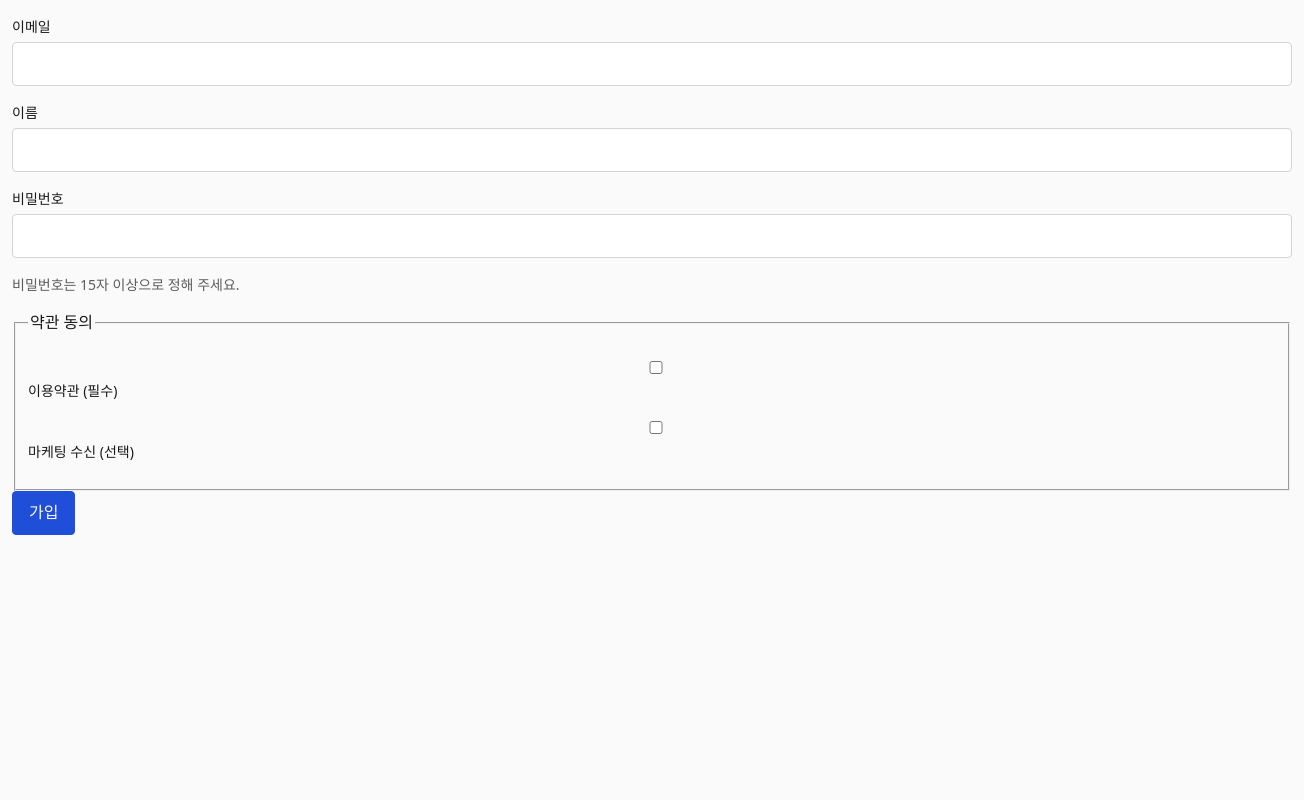
가입 › 서버가 짚은 칸에 서버 문구가 아니라 화면 문구를 단다
The image size is (1304, 800).
Type "fan@example.com" into the field labelled "이메일". click: point(652, 64)
box: [12,42,1292,86]
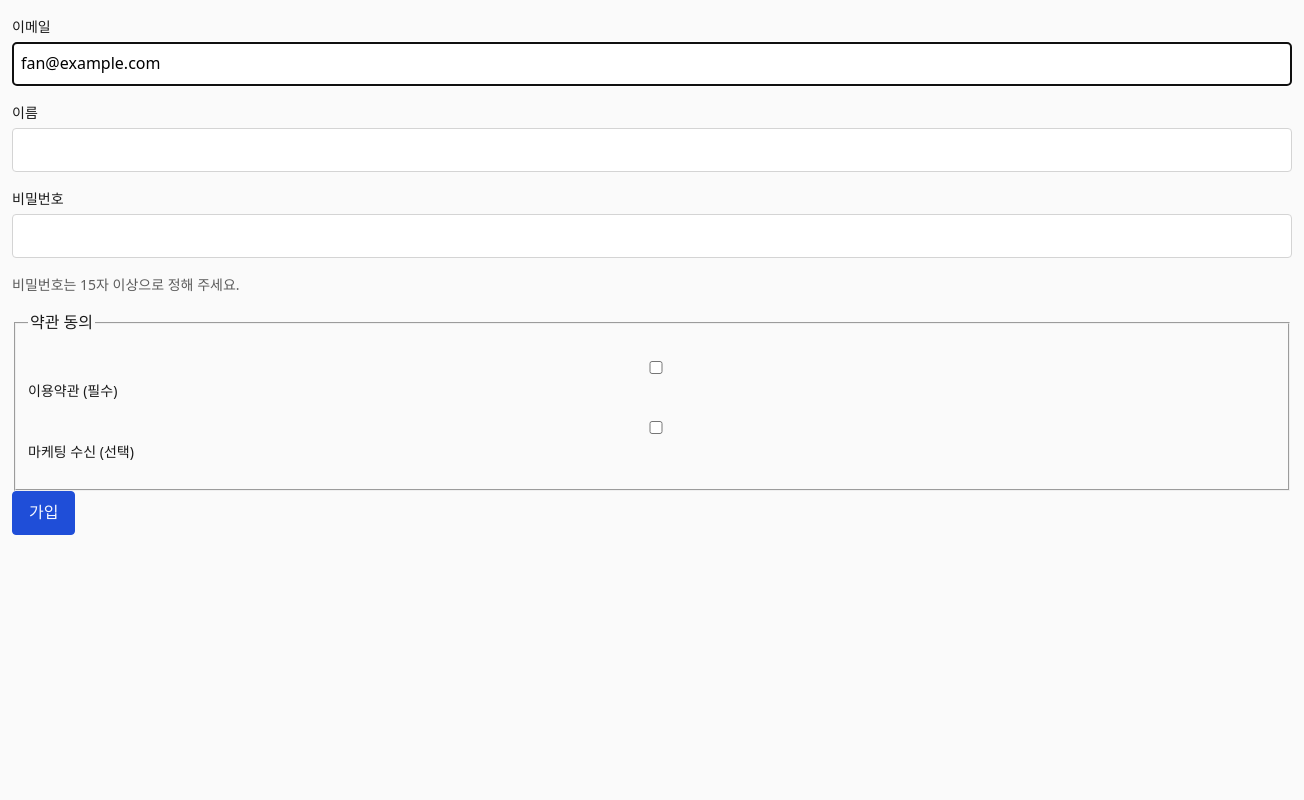
Type "관객" into the field labelled "이름". click: point(652, 150)
box: [12,128,1292,172]
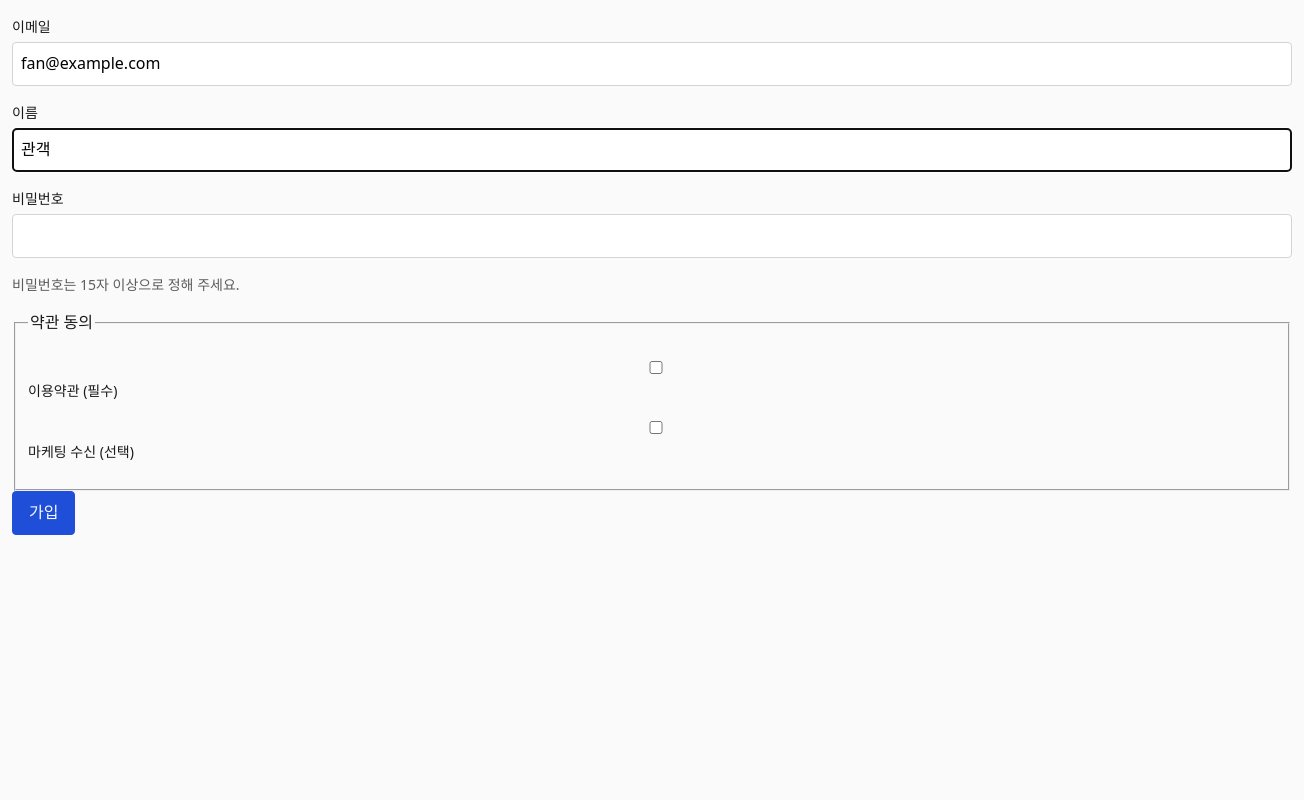
Type "password password password" into the password field labelled "비밀번호". click: point(652, 236)
box: [12,214,1292,258]
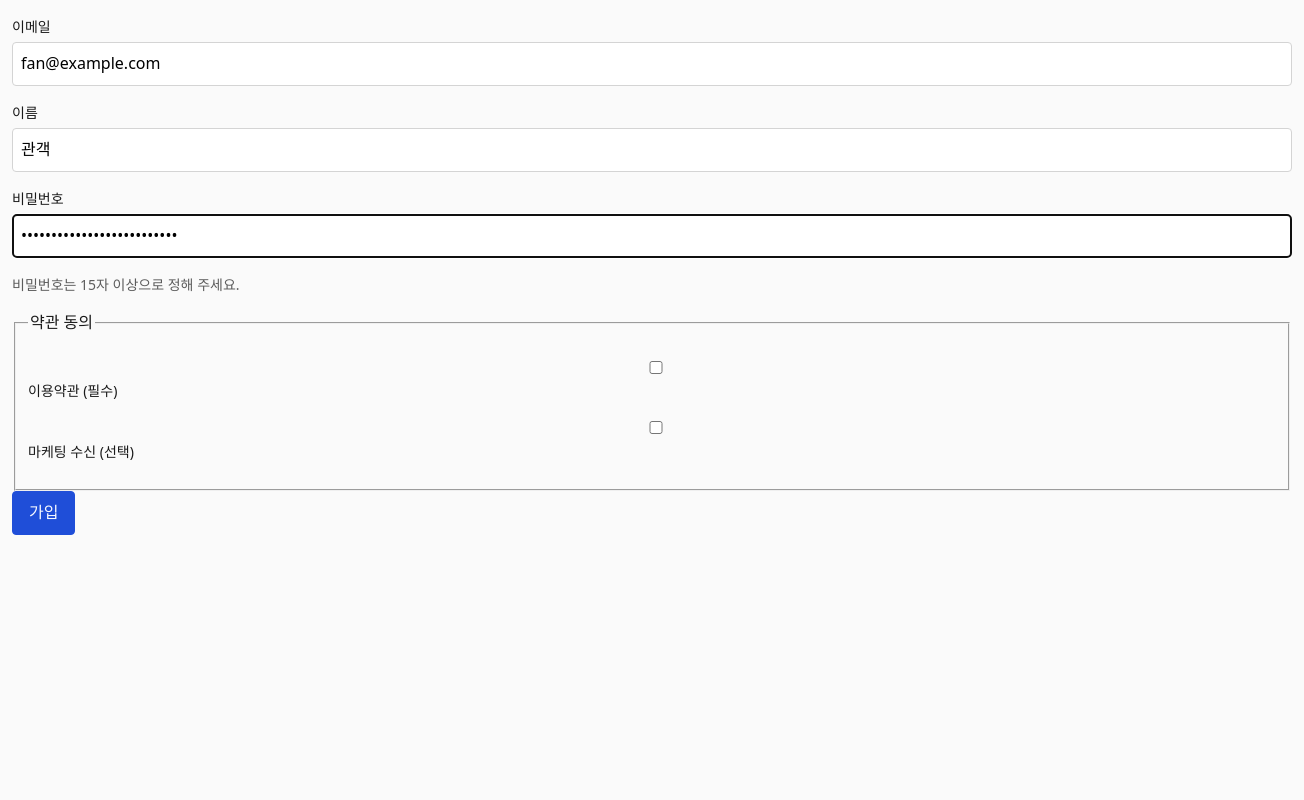
Click the checkbox labelled "이용약관 (필수)". click: point(656, 367)
box: [32,360,1280,374]
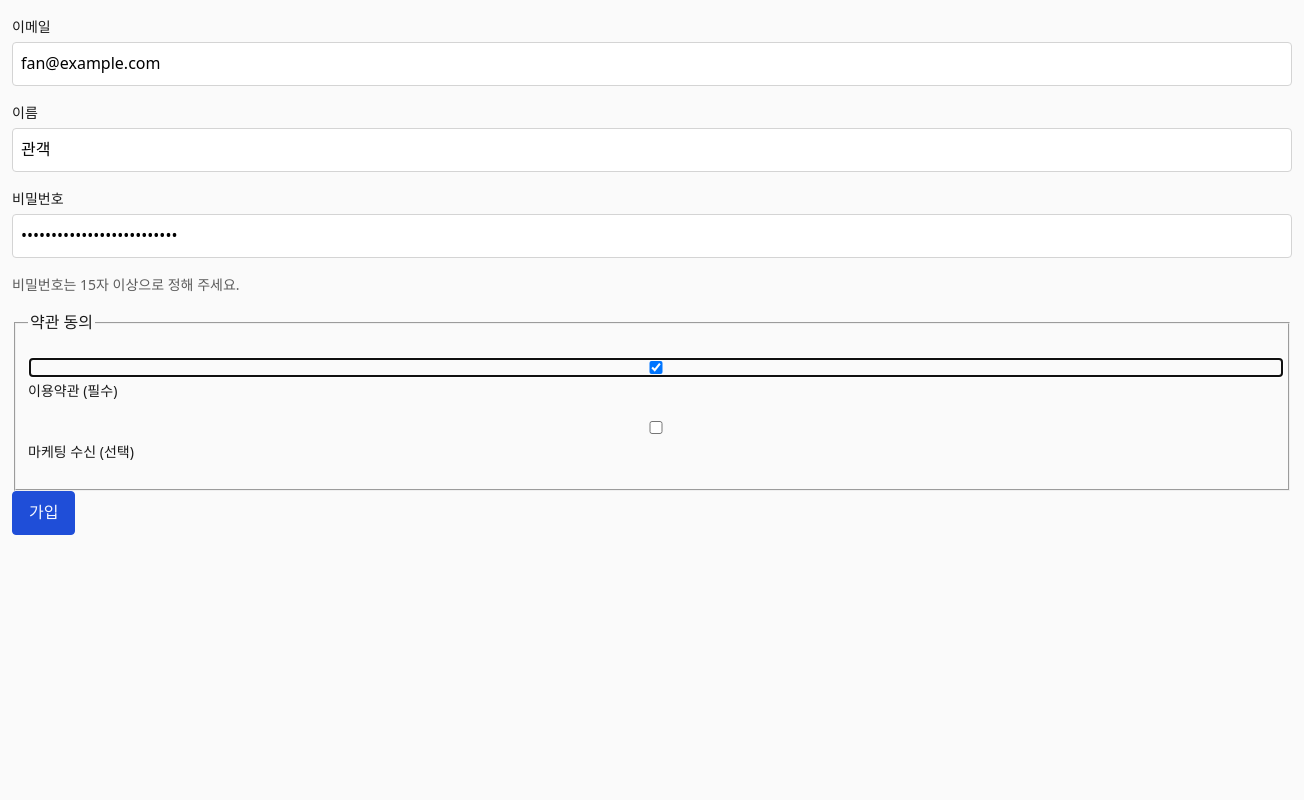
Click the button "가입". click: point(44, 513)
box: [12,491,76,535]
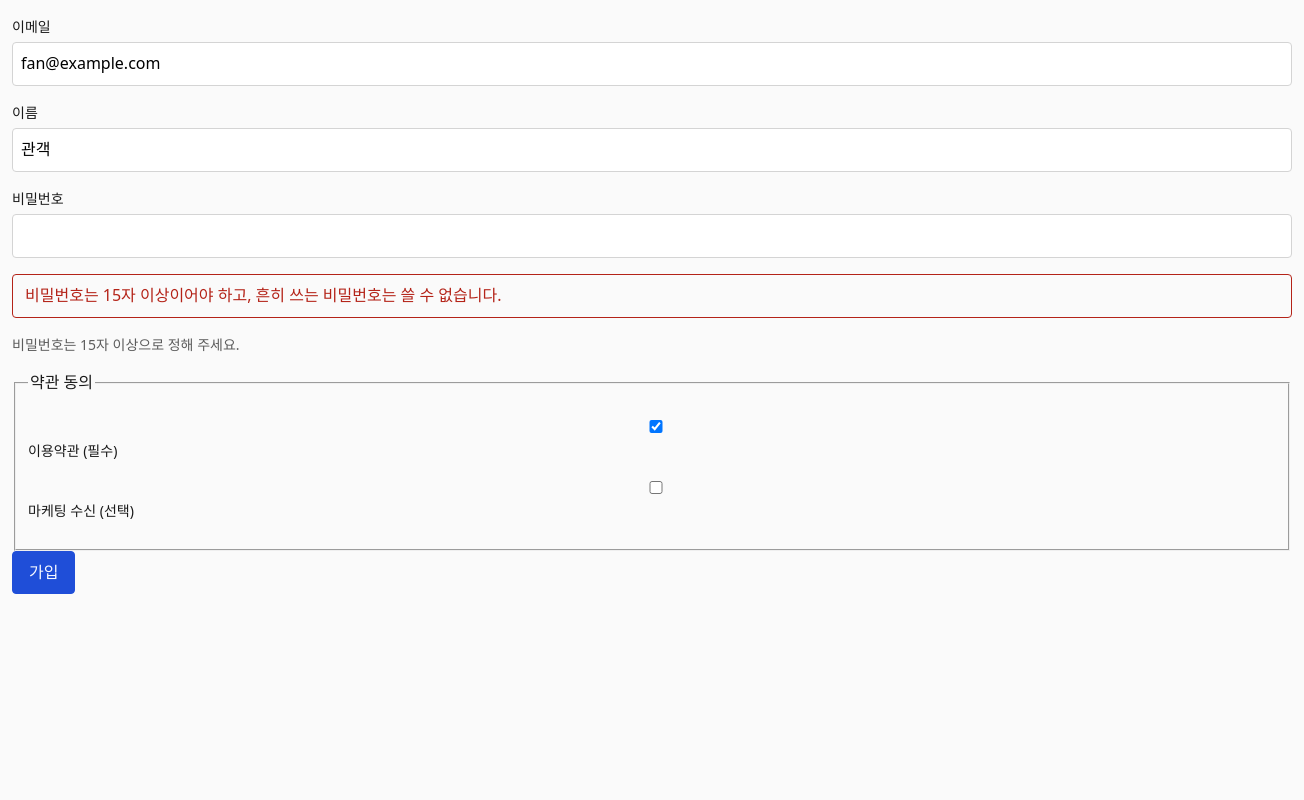
Now the message shows "흔히 쓰는 비밀번호는 쓸 수 없습니다", box [25,284,502,306]
